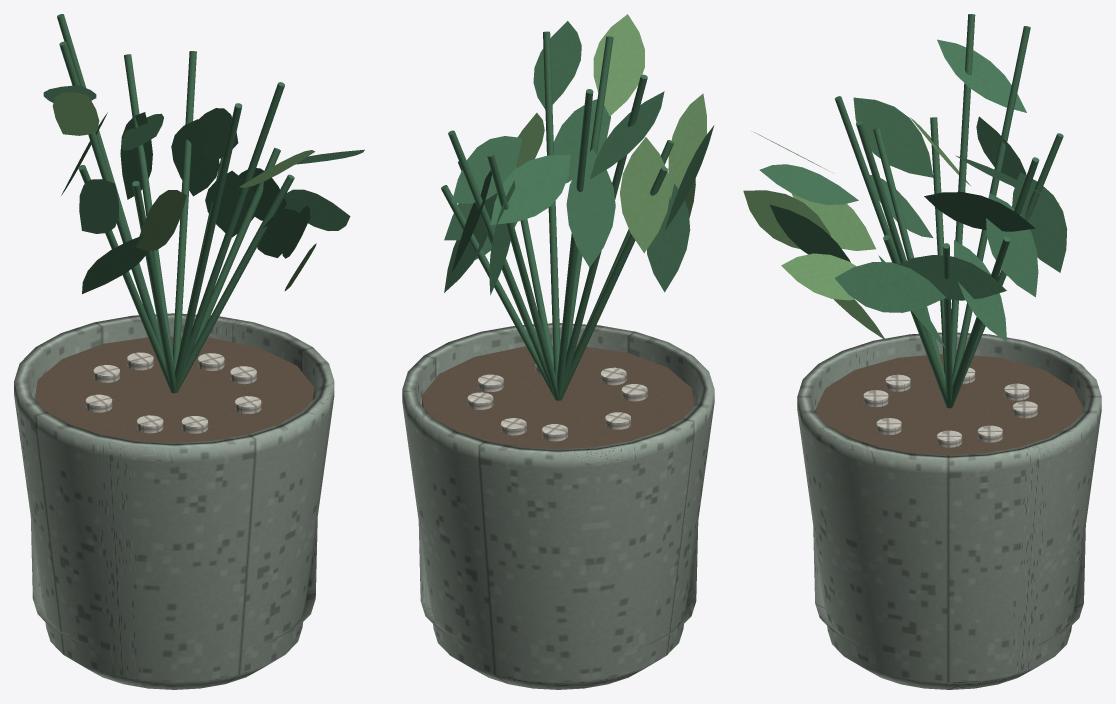
The model's file is detail-plant-round-1.glb.
3 renders of one model, left to right at view 1: azimuth 30°, elevation 25°; view 2: azimuth 150°, elevation 25°; view 3: azimuth 270°, elevation 25°, orthographic. The views are drawn at different scales.
Parts seen in each view (by area): view 1: hollow_ceramic_pot, leaf_blade (×14), soil_surface, plant_stem (×10); view 2: hollow_ceramic_pot, leaf_blade (×16), soil_surface, plant_stem (×10); view 3: hollow_ceramic_pot, leaf_blade (×16), soil_surface, plant_stem (×10).
Boxes of the visible parts, box(x1,y1,x2,y2) form: hollow_ceramic_pot: box(14, 313, 334, 689); leaf_blade (×14): box(52, 92, 350, 293); soil_surface: box(34, 336, 314, 442); plant_stem (×10): box(57, 14, 294, 393); hollow_ceramic_pot: box(402, 323, 714, 689); leaf_blade (×16): box(444, 14, 714, 295); soil_surface: box(422, 345, 694, 449); plant_stem (×10): box(441, 31, 673, 400); hollow_ceramic_pot: box(797, 332, 1101, 689); leaf_blade (×16): box(743, 39, 1067, 341); soil_surface: box(815, 354, 1083, 455); plant_stem (×10): box(835, 14, 1063, 408).
Size of the model in its own units: 0.6 by 1.28 by 0.7066.
5 materials, 5 textured.
